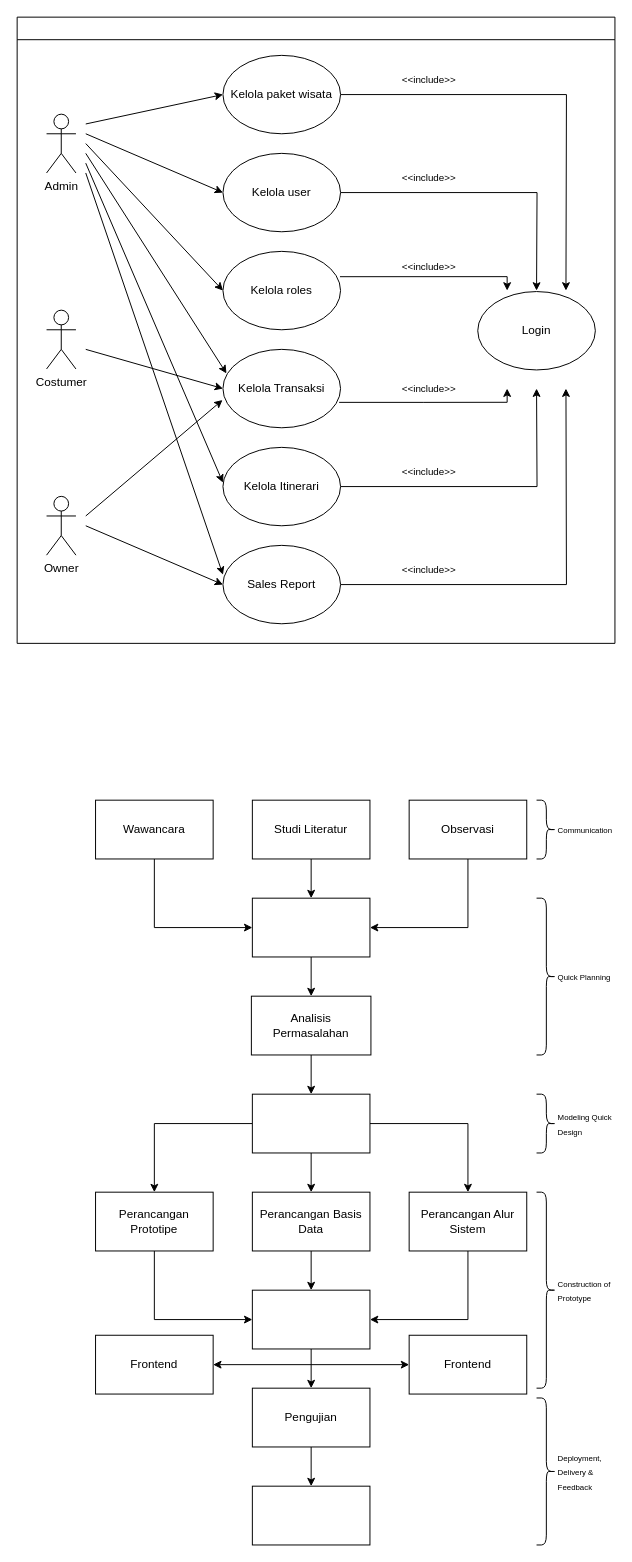
Image size: 632x1562. Some labels were removed from this diagram. The centre of each missing label's shape, as x and y in pixels:
"Desain Sistem" belongs at pixel 310 1123.
"Pengembangan" belongs at pixel 310 1319.
"Permasalahan" belongs at pixel 310 927.
"Release" belongs at pixel 310 1515.
"Use Case Diagram" belongs at pixel 315 329.
